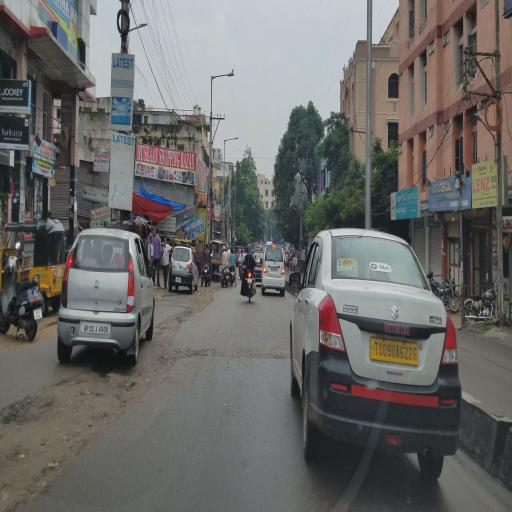street_light_0: (209, 66, 239, 88), (127, 16, 151, 37), (224, 126, 244, 150)
